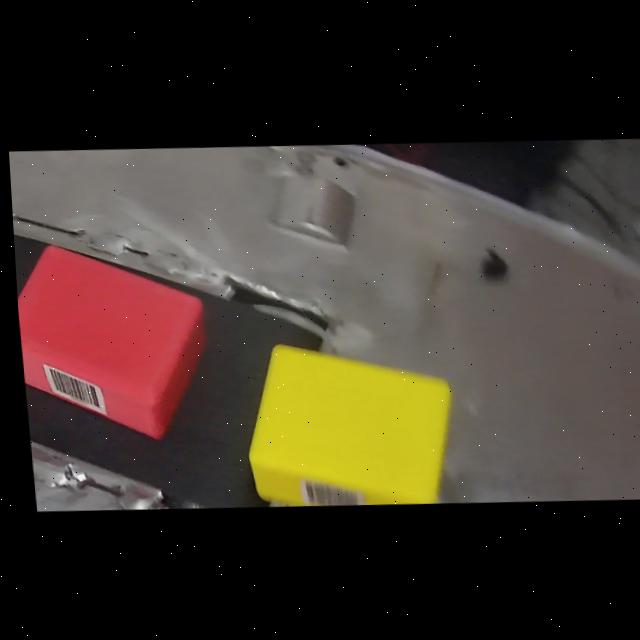redBox: (11, 229, 219, 446)
yellowBox: (229, 335, 458, 509)
